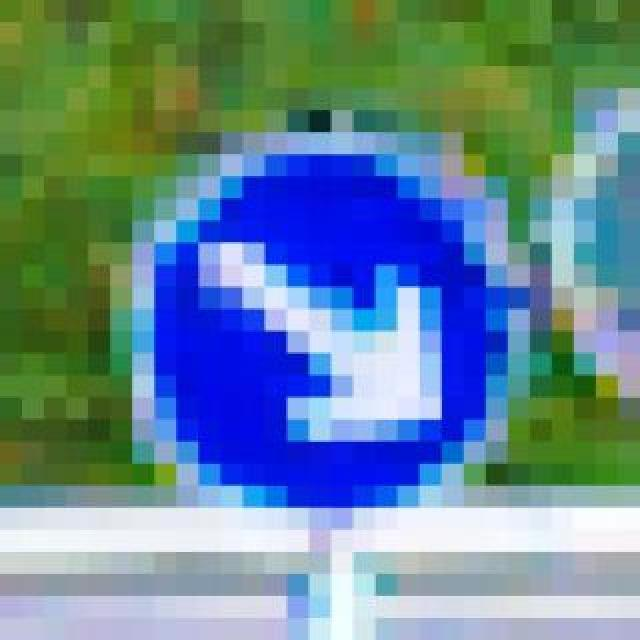keep right: (88, 88, 508, 508)
